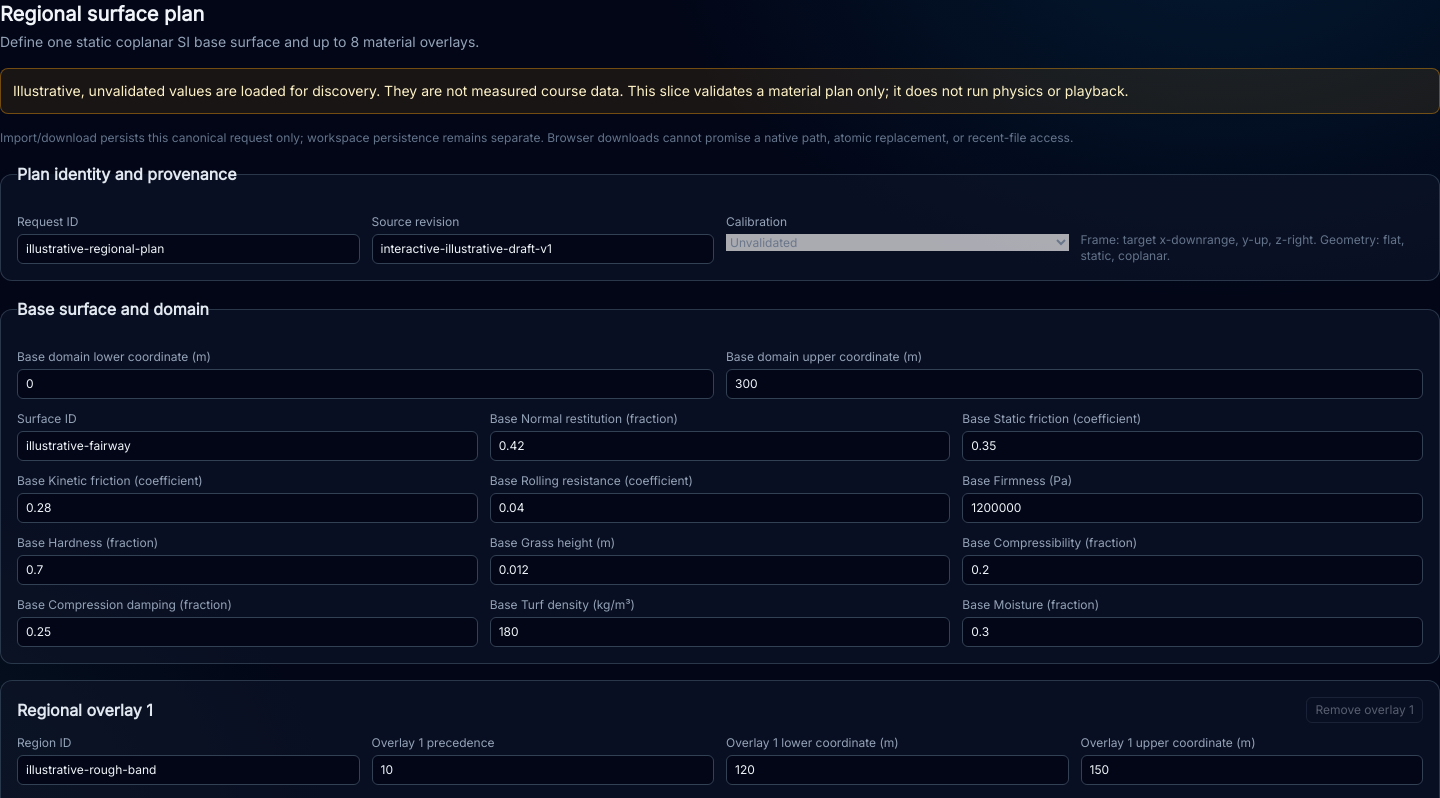
it: RegionalSurfacePlanPanel › accepts the exact cross-runtime maximum precedence
Replace the text in the number field labelled "Overlay 1 precedence" with "9007199254740991" at {"x": 543, "y": 770}, box [372,755,714,785]
(page scrolled)
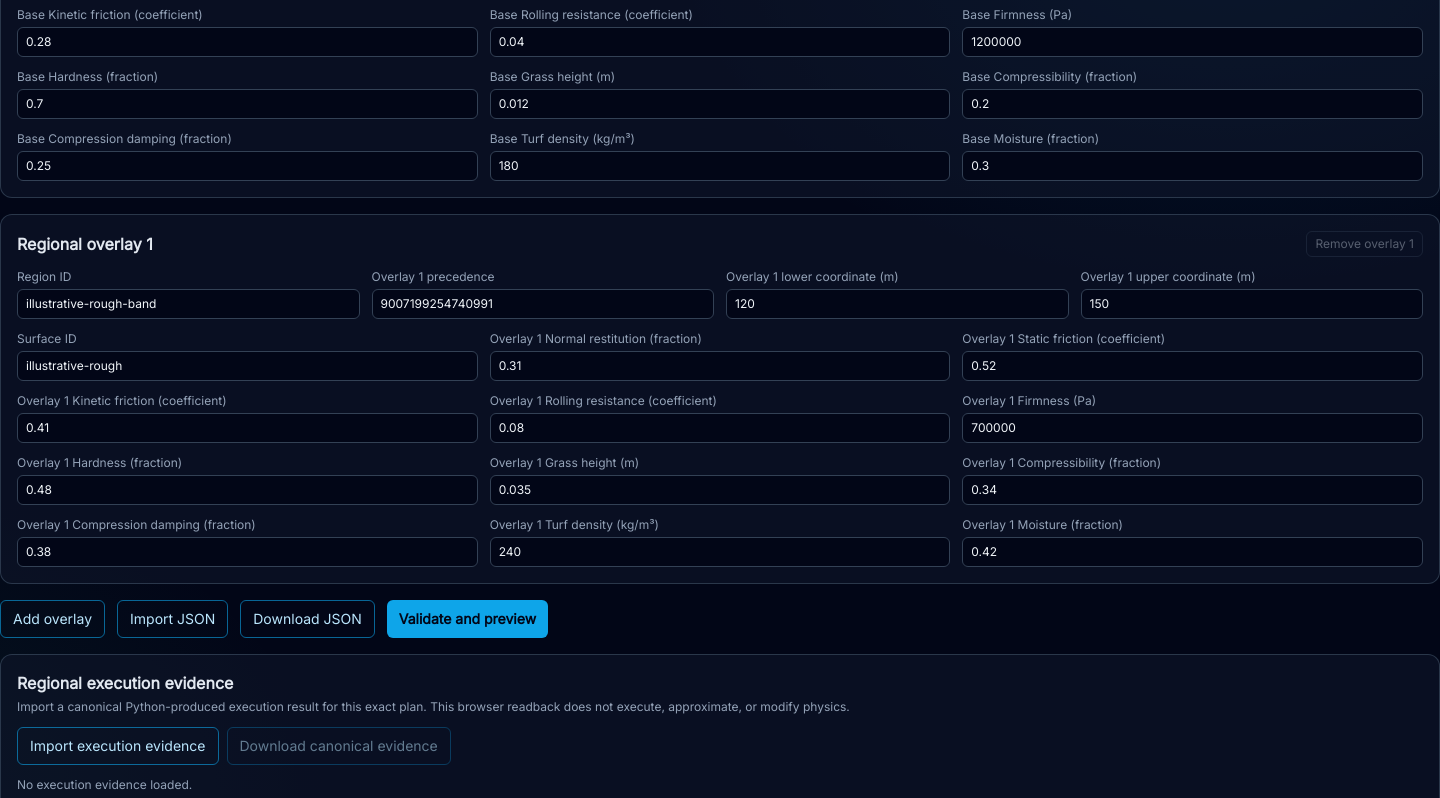
Click the button with aria-label "Validate surface plan" at {"x": 467, "y": 619}, box [387,600,548,638]
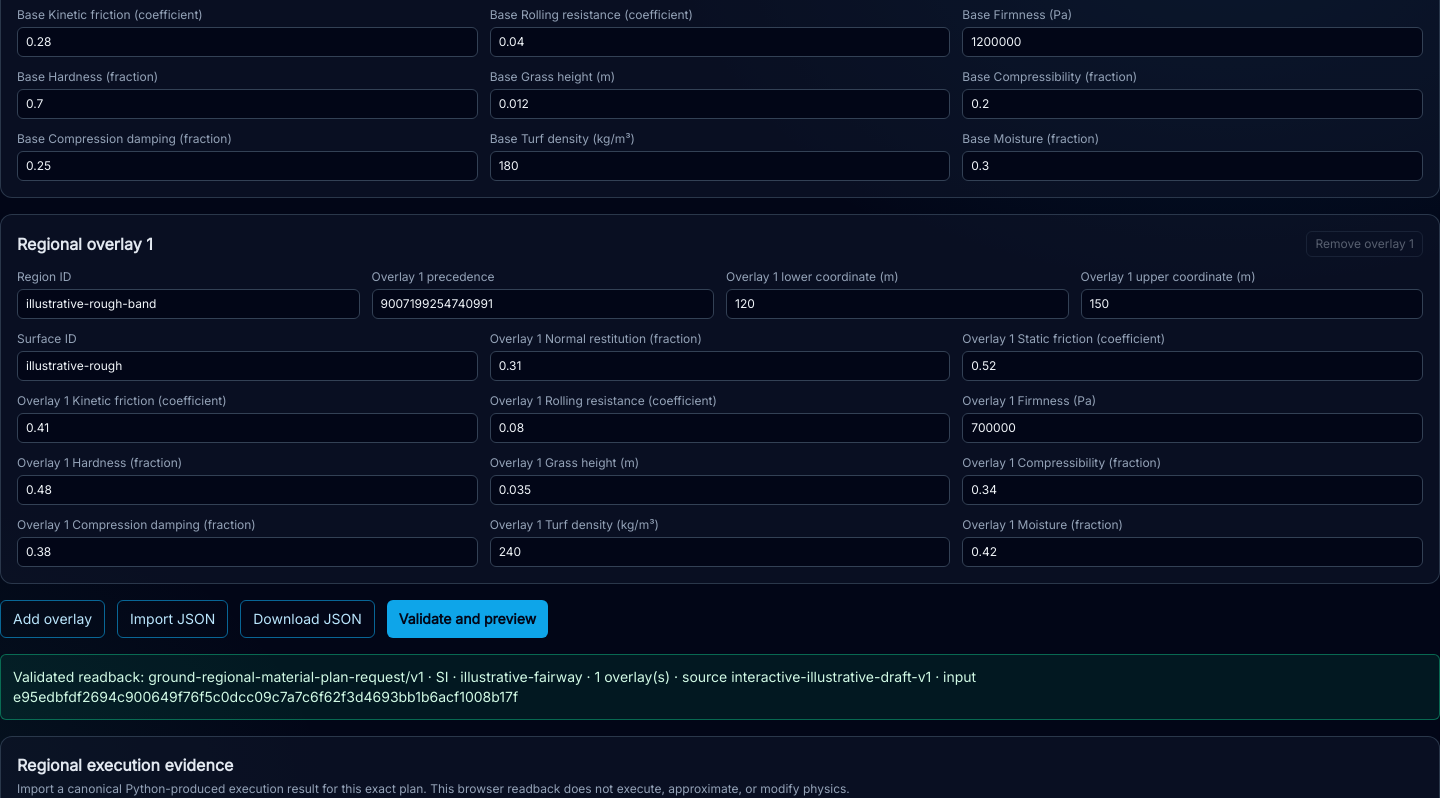
Now the message named "Regional surface plan readback" shows "1 overlay(s)", box [13,668,976,705]
